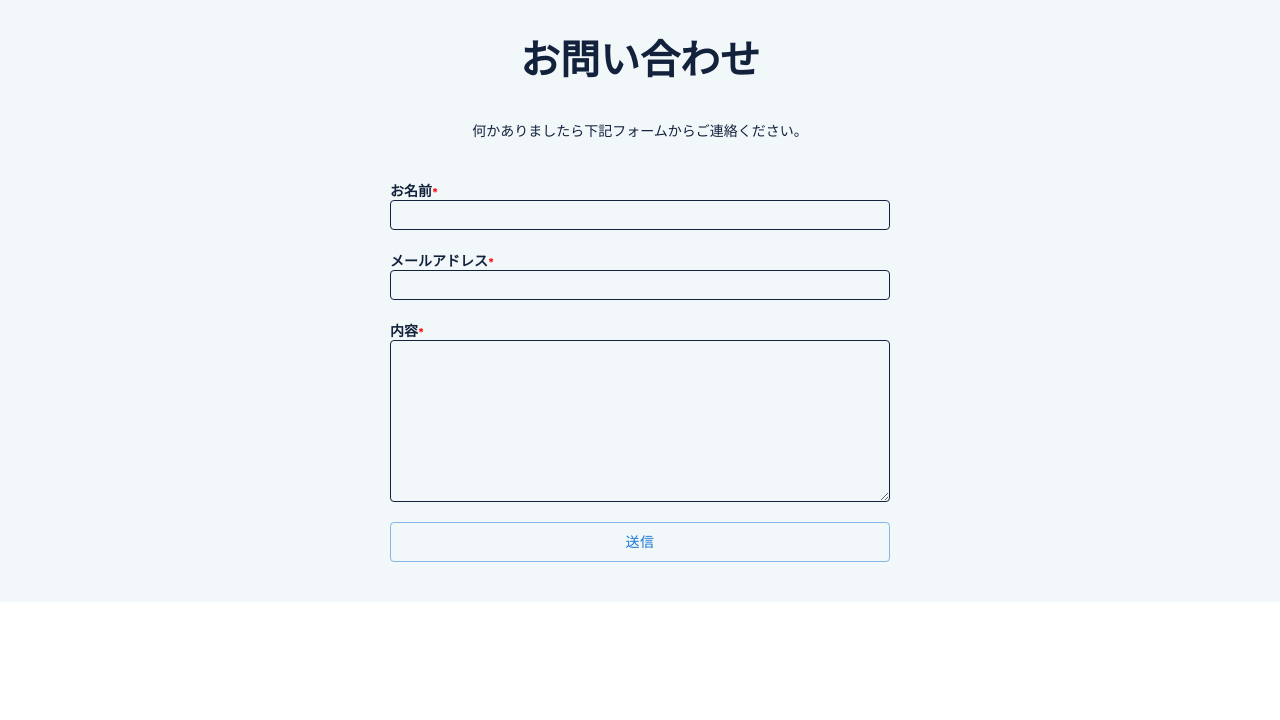
it: バリデーションチェック 入力必須
Step 1. Click the button → (640, 542), box [390,522,890,562]
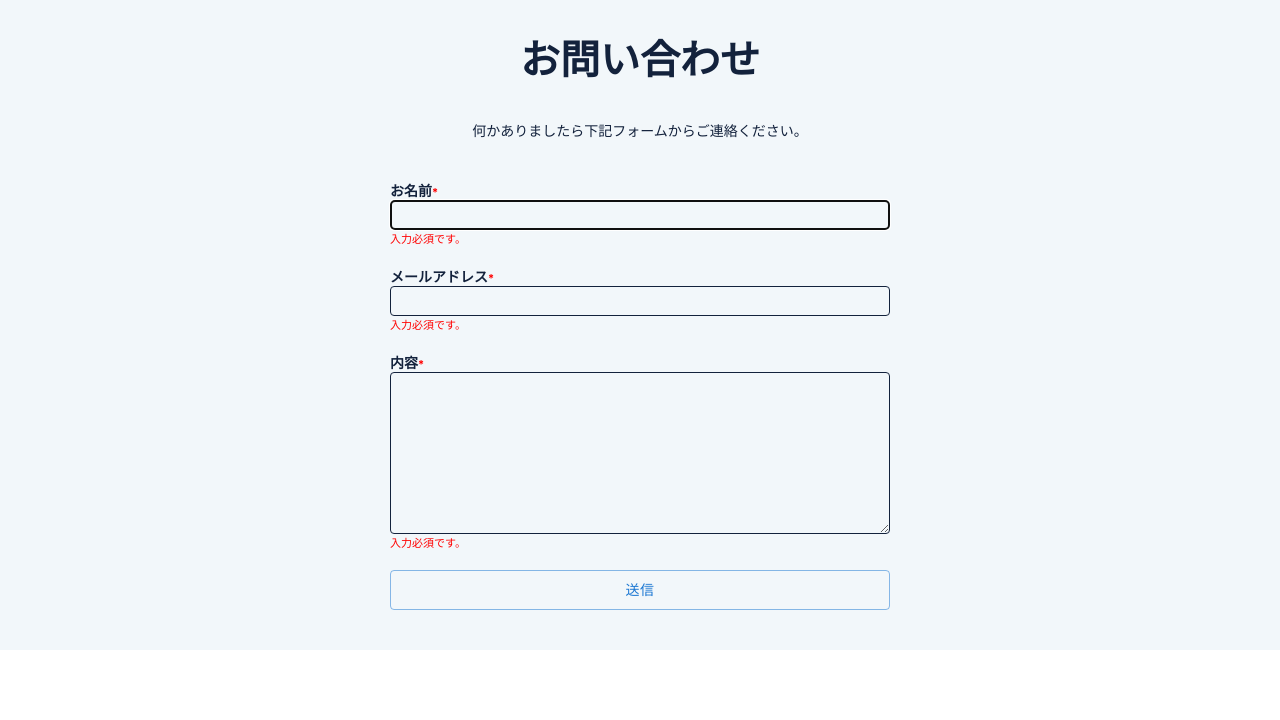
Result: the text "入力必須です。" is shown 3 times at [390,232,466,246]; [390,318,466,332]; [390,536,466,550]
